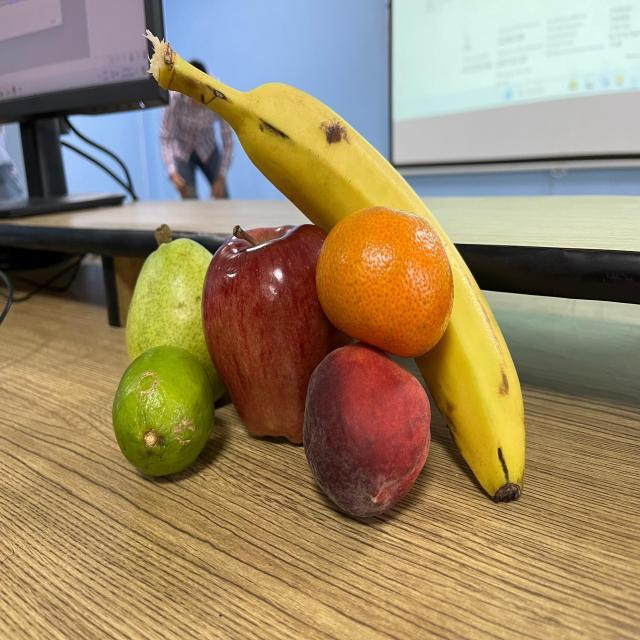Apel Merah: (201, 220, 355, 450)
Jeruk Mandarin: (314, 203, 458, 361)
Lemon: (108, 342, 218, 480)
Persik: (300, 337, 435, 525)
Pir: (123, 222, 236, 413)
Pisang: (144, 28, 528, 507)
